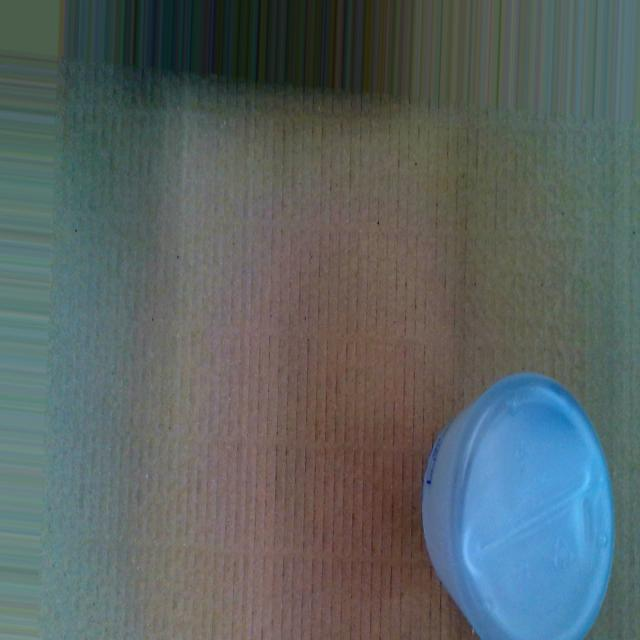bottle: (420, 366, 616, 640)
